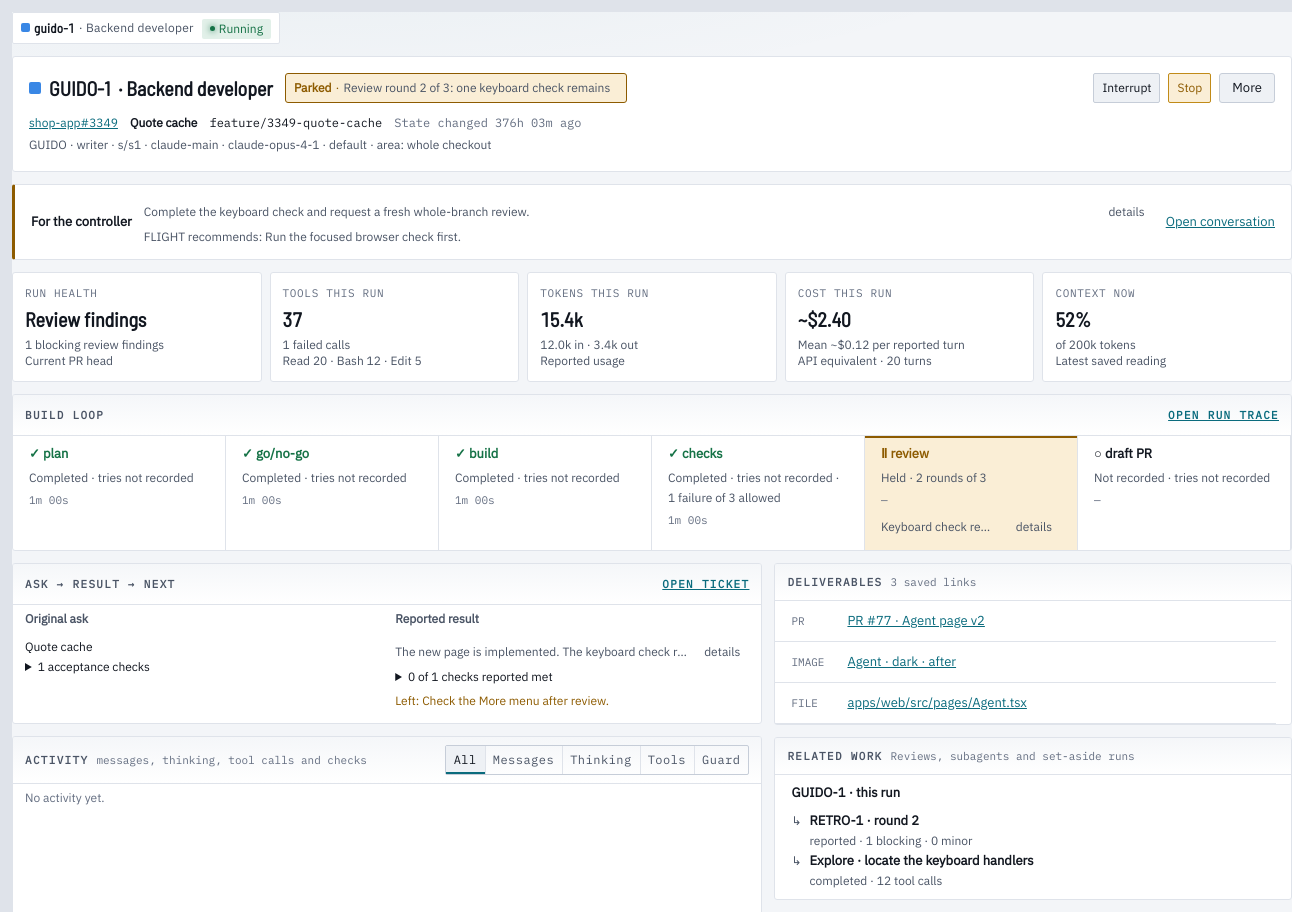
Scenario: refreshes the Agent response after Interrupt without an SSE message
Click the button "Interrupt": (1127, 88) [1093,72,1160,102]
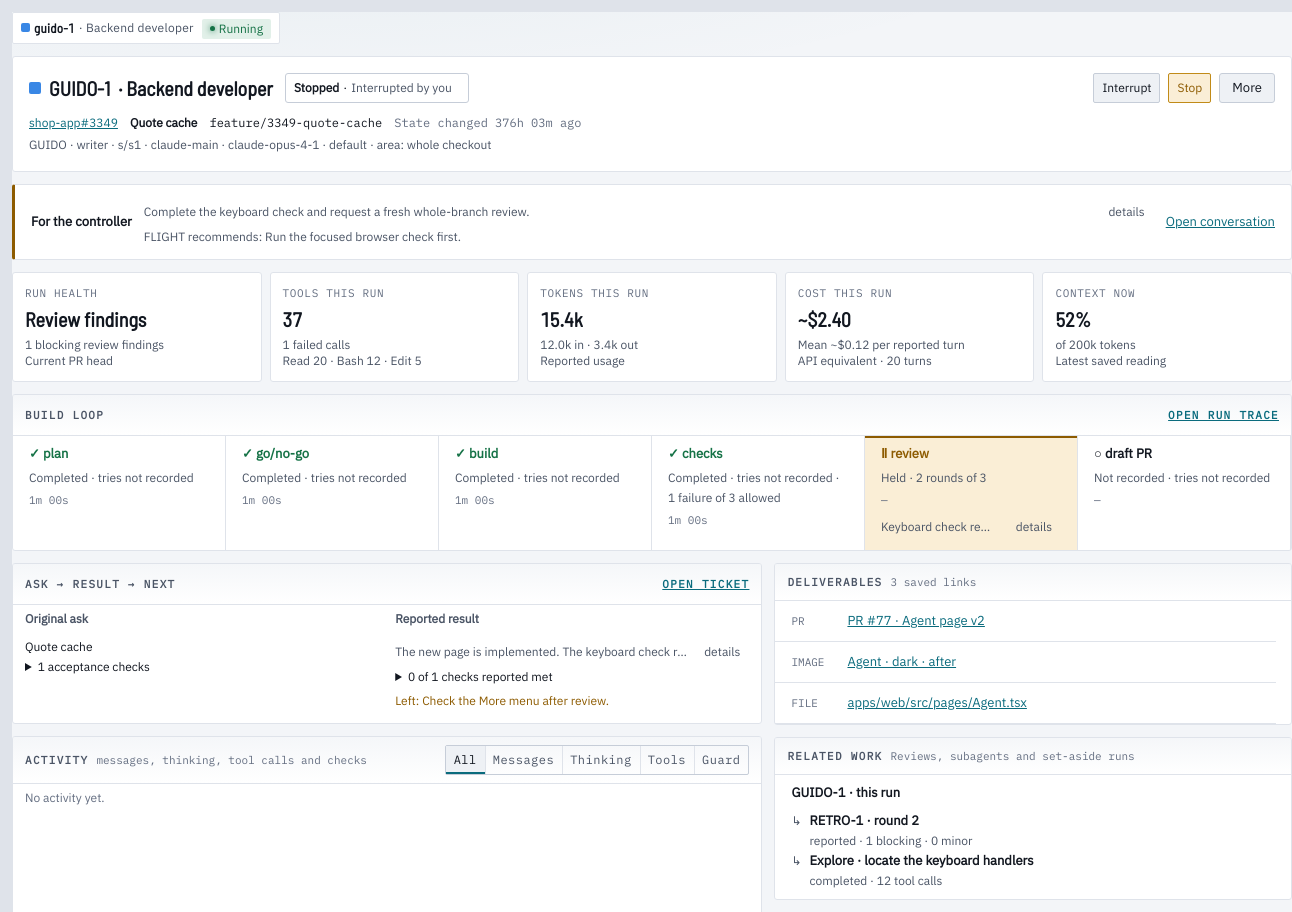
Expected: the text "Interrupted by you" is shown, [351,78,452,98]
